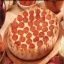pepperoni: (23, 17, 44, 38), (40, 12, 54, 34), (12, 28, 30, 44)
pizza: (9, 7, 58, 58)
